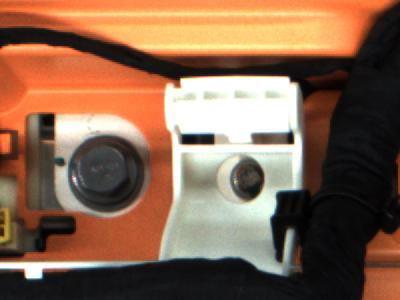nut_b: (56, 127, 157, 214)
